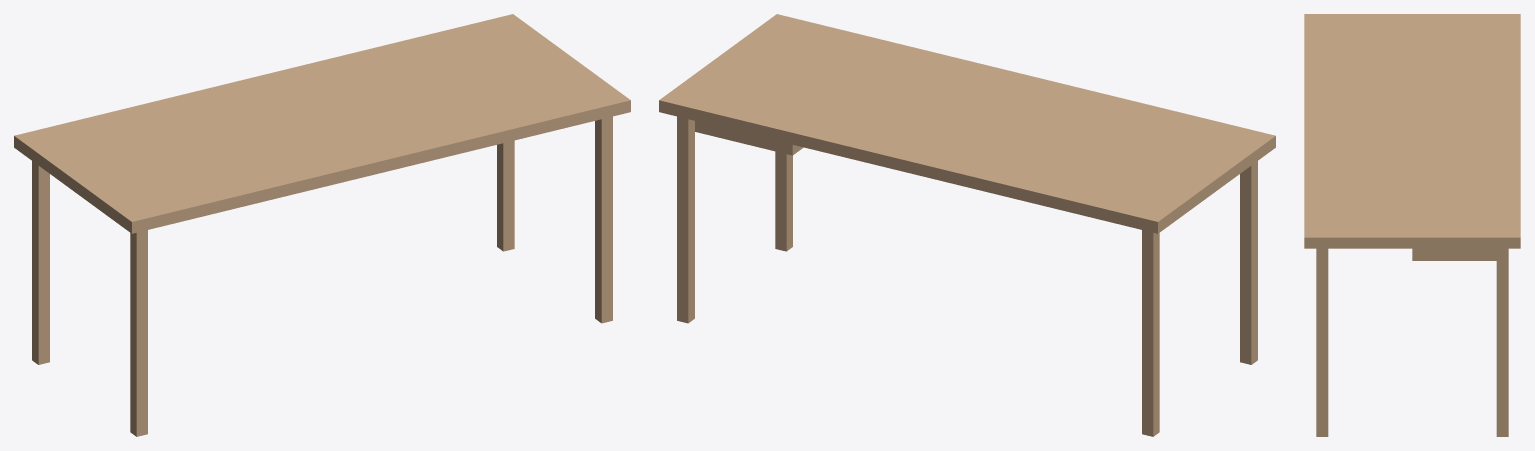
File: desk_07.glb
The picture shows the model from 3 angles, left to right: view 1: azimuth 30°, elevation 25°; view 2: azimuth 150°, elevation 25°; view 3: azimuth 270°, elevation 25°; orthographic projection. The views are drawn at different scales.
Size of the model in its own units: 1.76 by 0.75 by 0.72.
